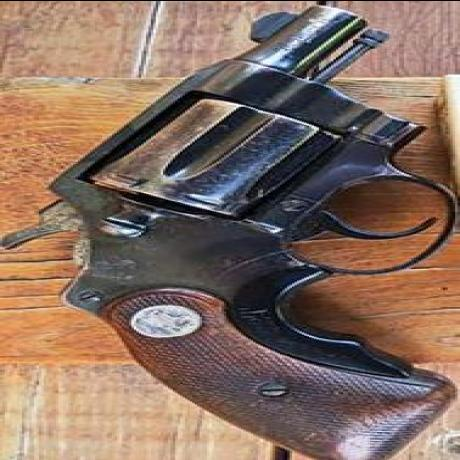weapon: (0, 4, 440, 456)
